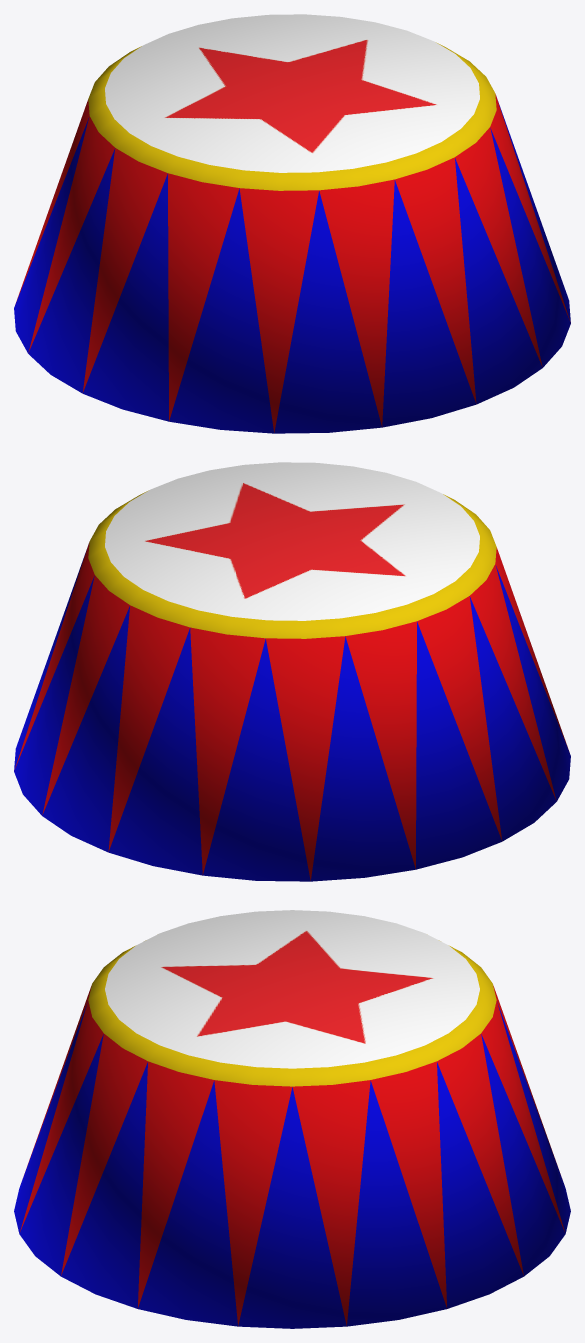
Rendered from bancoCirco.fbx.
3 views of the same model, one above another, from view 1: azimuth 30°, elevation 25°; view 2: azimuth 150°, elevation 25°; view 3: azimuth 270°, elevation 25° (orthographic).
Parts seen in each view (by area): view 1: Circle; view 2: Circle; view 3: Circle.
Part boxes in pixels (x1,y1,x2,y2): Circle: [14, 14, 570, 433]; Circle: [14, 462, 570, 881]; Circle: [14, 910, 570, 1328].
Size of the model in its own units: 1203 by 529 by 1203.
Materials: 4 (1 with a texture image).
